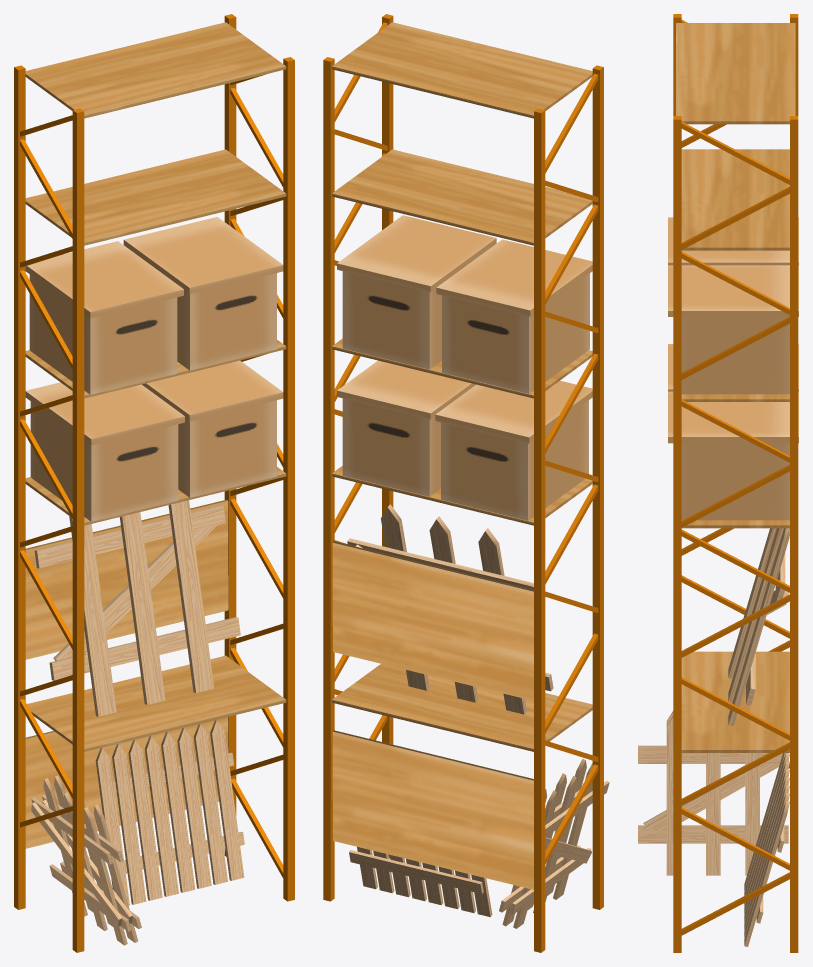
The model's file is Wood_Plank_Rack.fbx.
3 renders of one model, left to right at view 1: azimuth 30°, elevation 25°; view 2: azimuth 150°, elevation 25°; view 3: azimuth 270°, elevation 25°, orthographic.
Visible parts, largest first — view 1: Wood_Plank_Rack; view 2: Wood_Plank_Rack; view 3: Wood_Plank_Rack.
Part boxes in pixels (x1,y1,x2,y2): Wood_Plank_Rack: (14,14,294,952); Wood_Plank_Rack: (323,14,609,952); Wood_Plank_Rack: (638,14,798,952).
Size of the model in its own units: 2 by 7.38 by 1.29.
